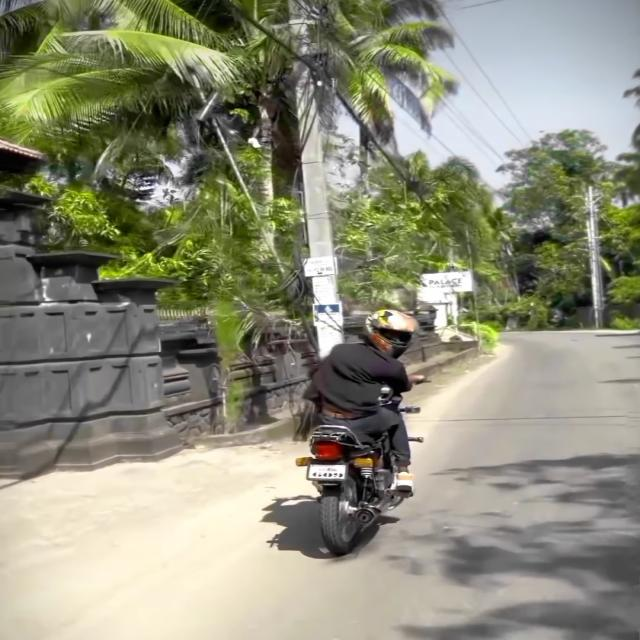bike: (263, 324, 493, 565), (307, 456, 351, 485)
helmet: (344, 296, 430, 359)
